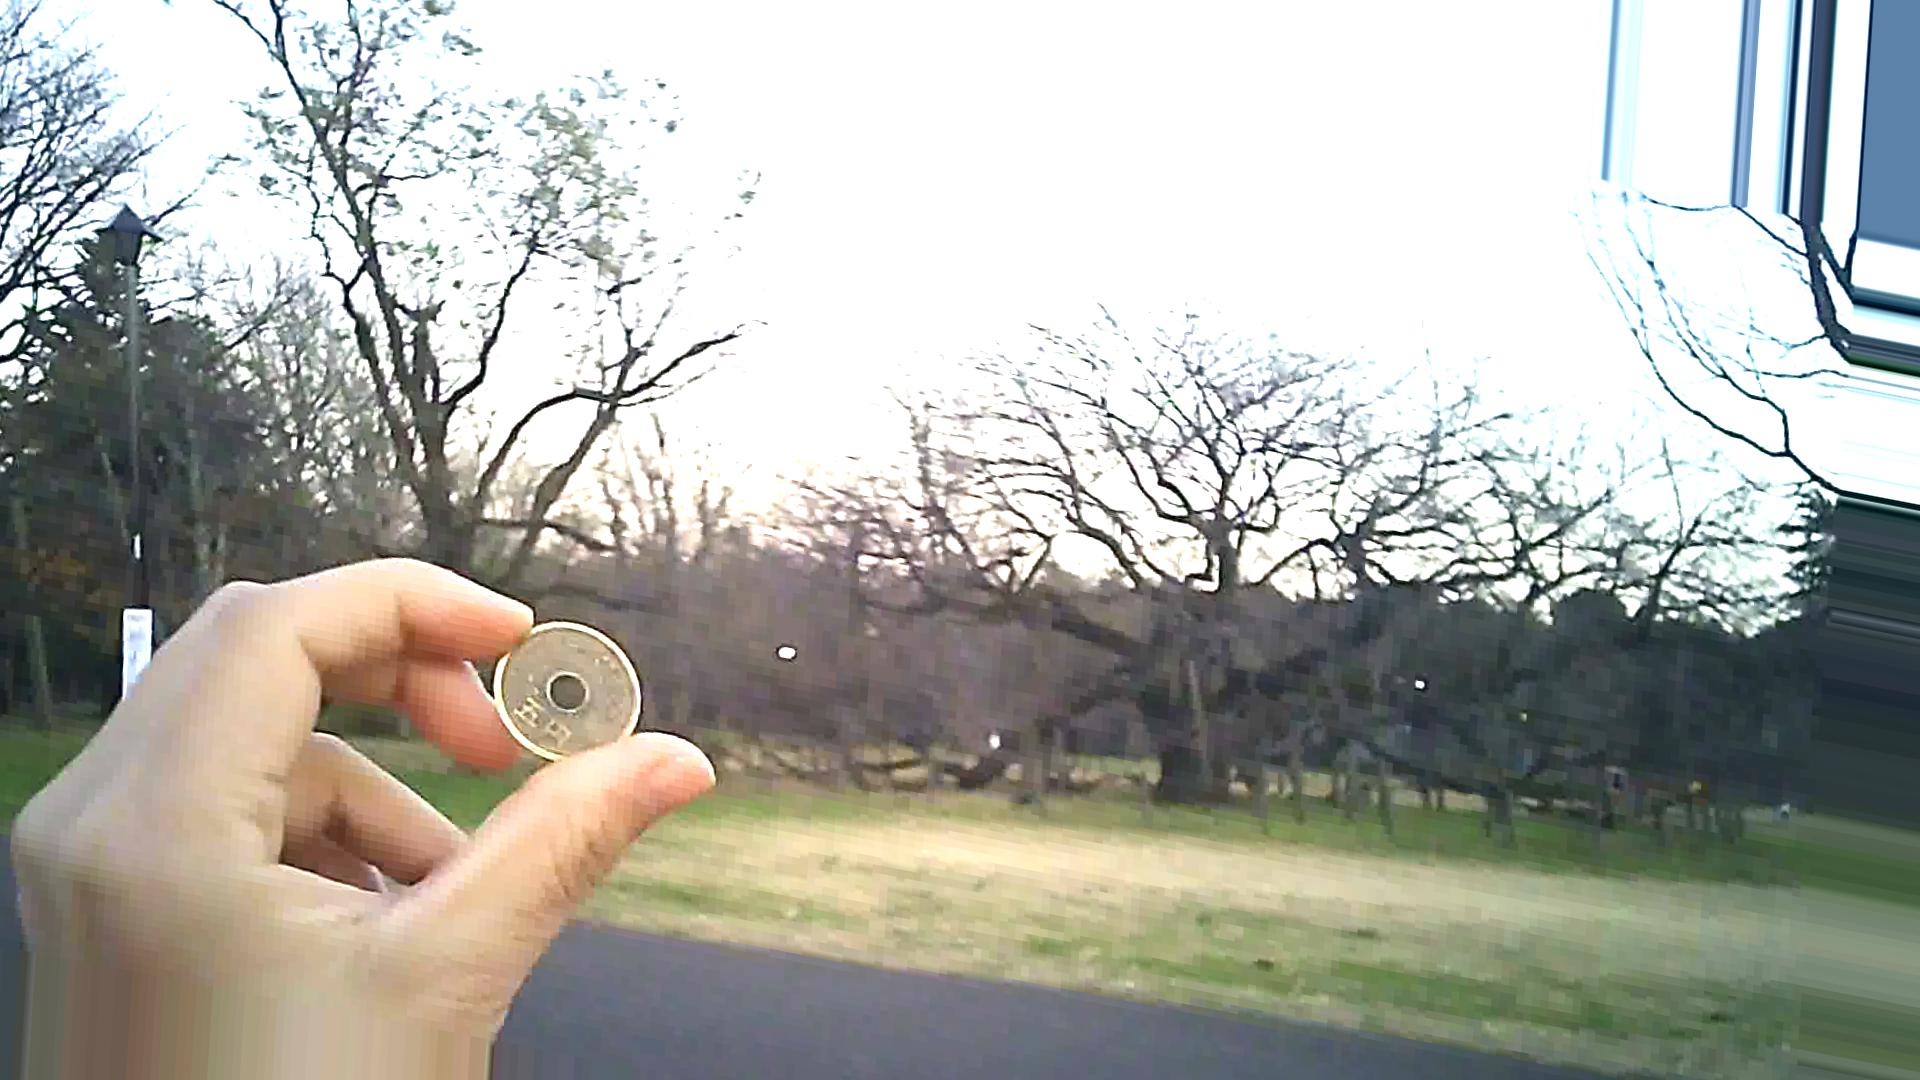5 Yen: (475, 605, 651, 786)
